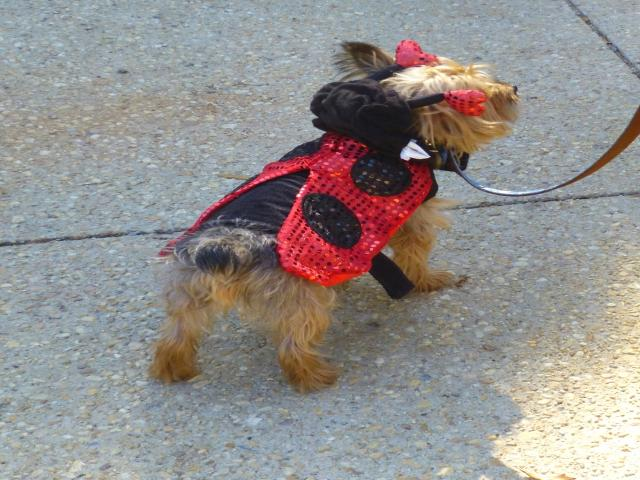Dog: (147, 37, 521, 395)
